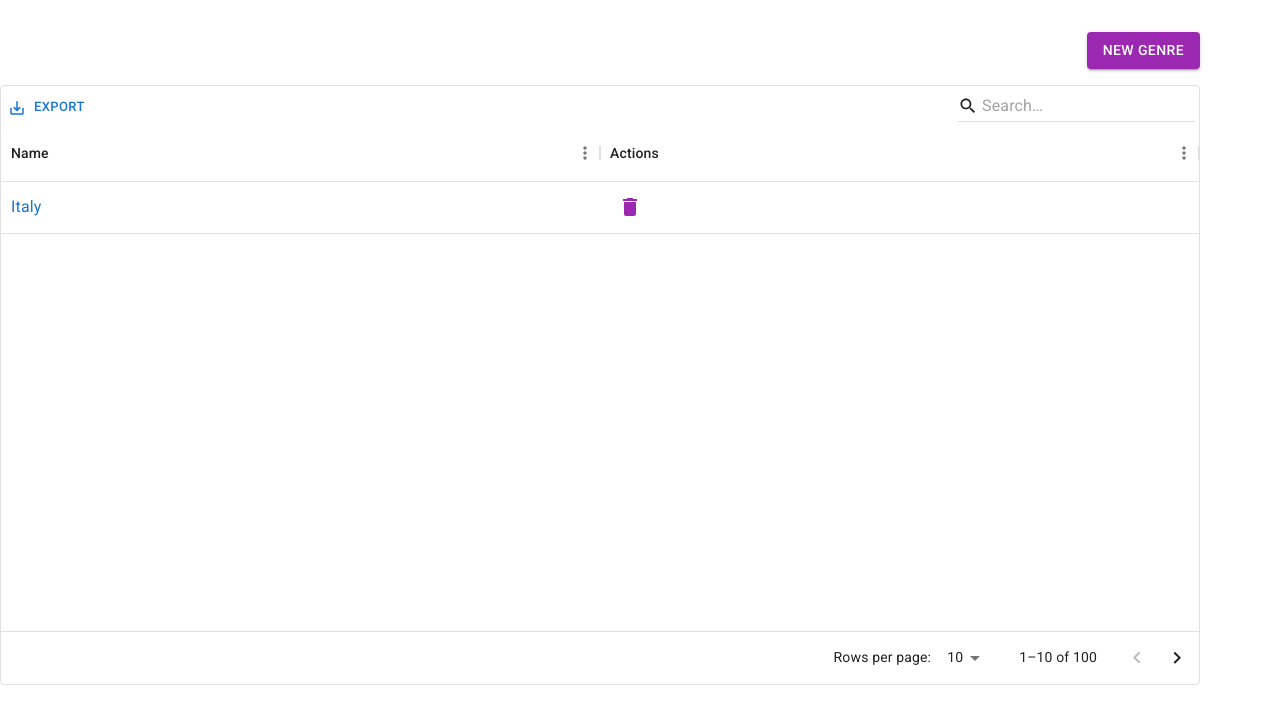
GenreList › should handle delete genre success
Expected: the text "Italy" is shown, [11,195,42,219]
Click the button with test id "delete-button" at (630, 207), box [610,187,650,227]
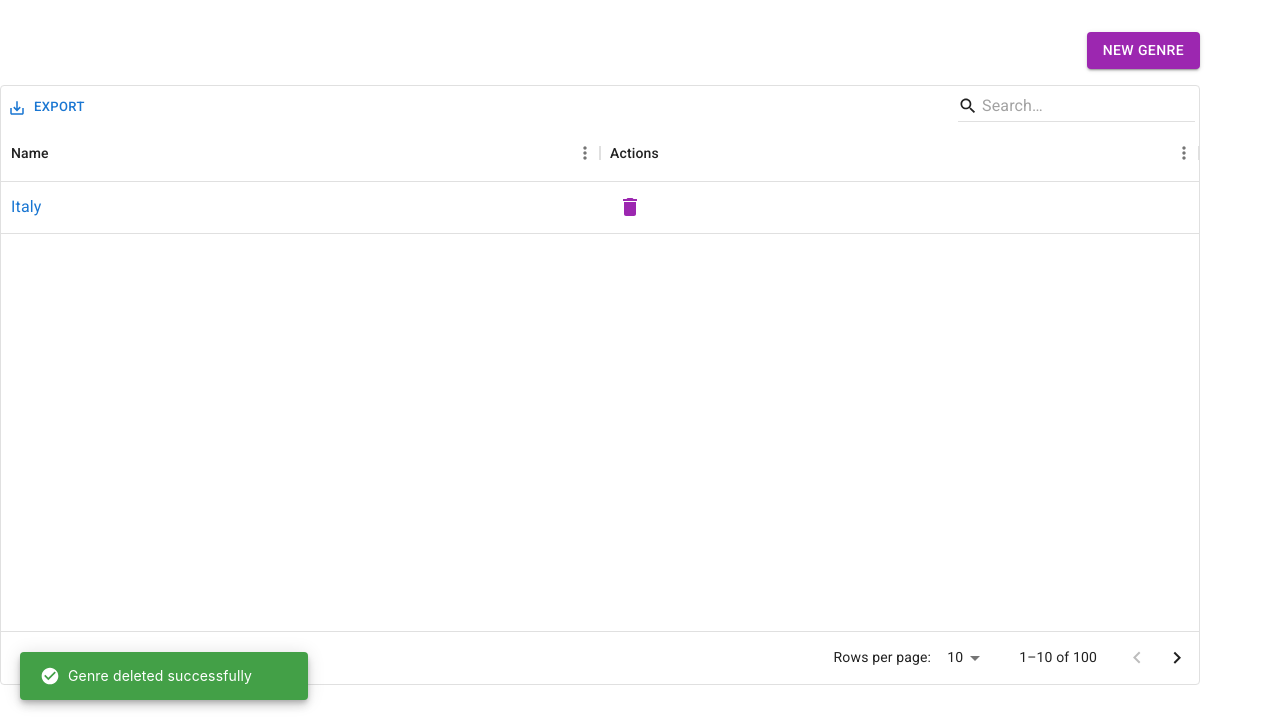
Expected: the text "Genre deleted successfully" is shown, [40,666,252,686]
